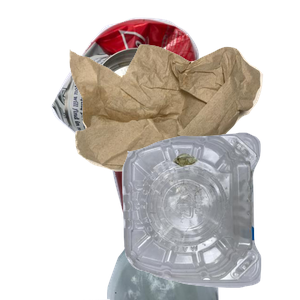glass: (83, 120, 294, 300)
metal: (48, 15, 251, 175)
plastic: (119, 130, 300, 300)
trash: (67, 42, 300, 206)
